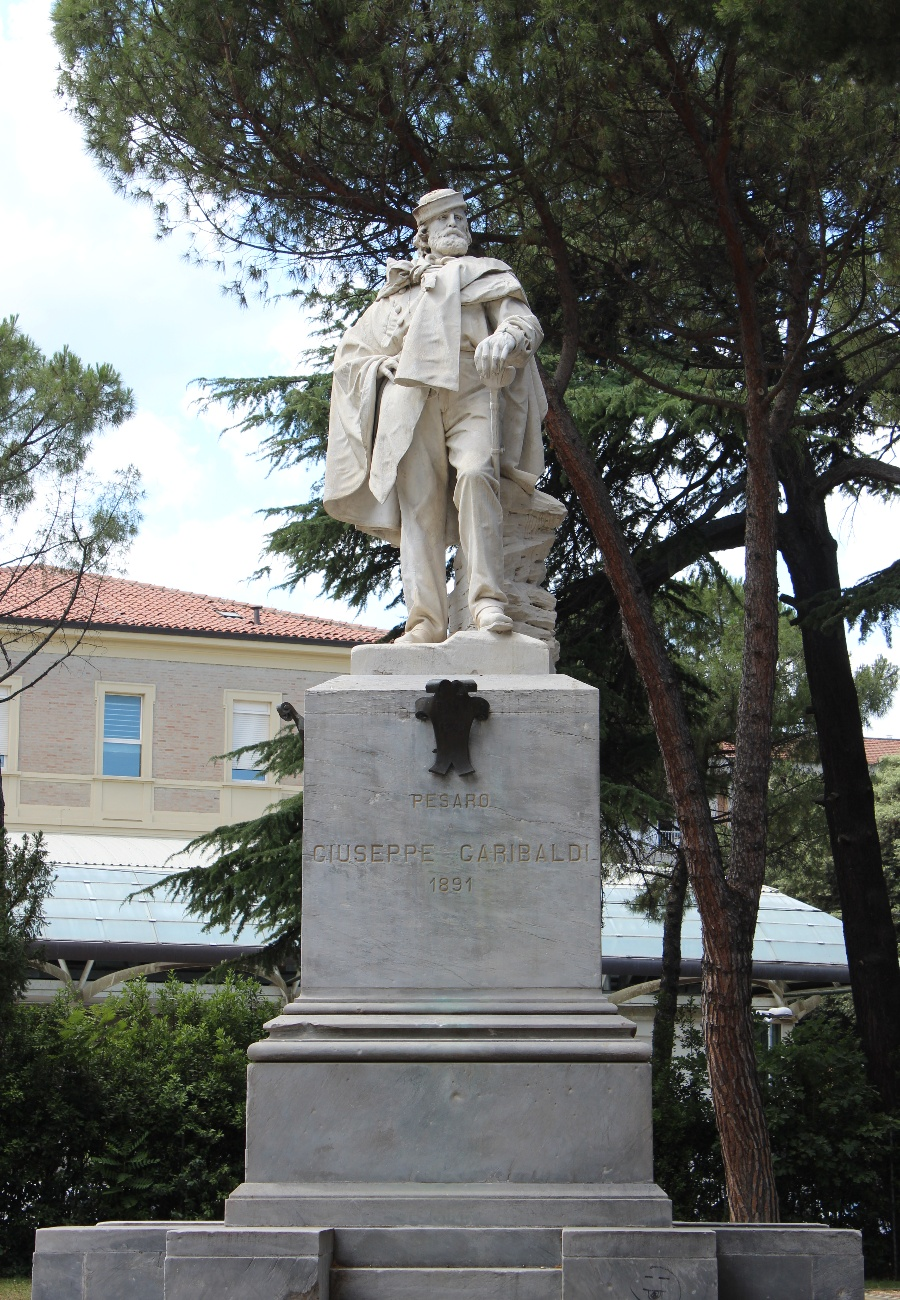Giuseppe Garibaldi: (325, 189, 550, 658)
